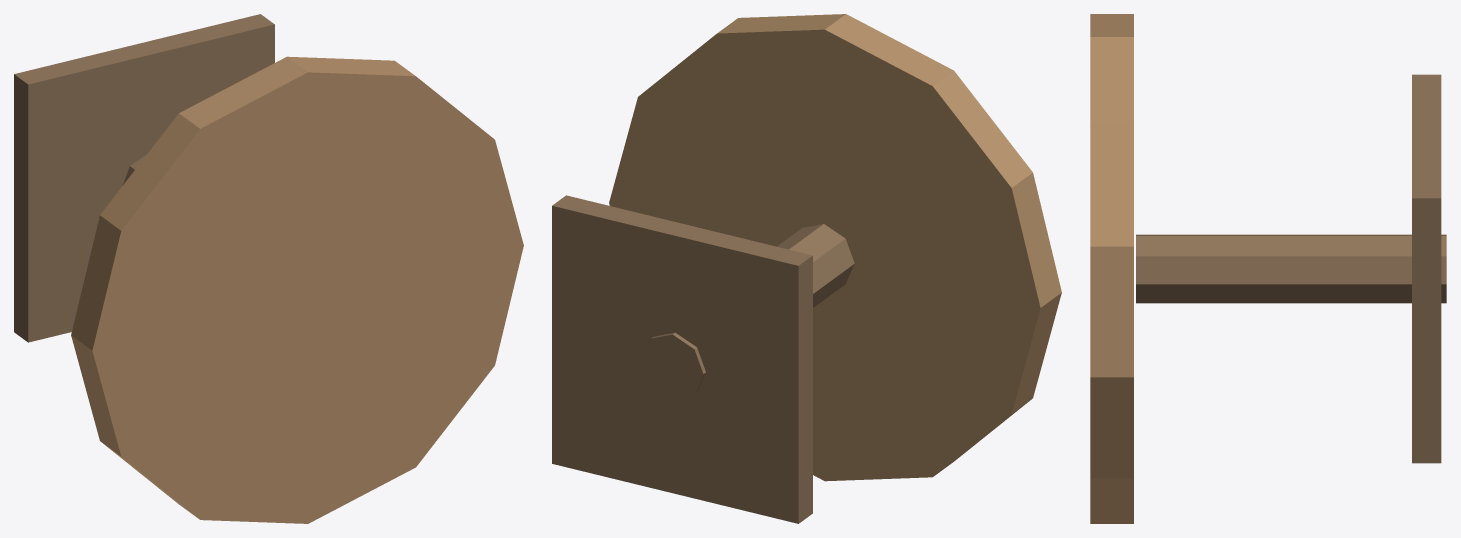
The model's file is shop_inn_table_round.glb.
3 views of the same model, side by side, from view 1: azimuth 30°, elevation 25°; view 2: azimuth 150°, elevation 25°; view 3: azimuth 270°, elevation 25° (orthographic). The views are drawn at different scales.
Parts seen in each view (by area): view 1: top, feet; view 2: top, feet, leg; view 3: top, leg, feet.
Part boxes in pixels (x1,y1,x2,y2): top: [71, 56, 523, 523]; feet: [14, 14, 274, 342]; top: [609, 14, 1061, 481]; feet: [552, 195, 812, 523]; leg: [642, 224, 854, 398]; top: [1090, 14, 1133, 523]; leg: [1136, 234, 1446, 303]; feet: [1412, 74, 1441, 463].
Size of the model in its own units: 1.4 by 1.4 by 0.975.
